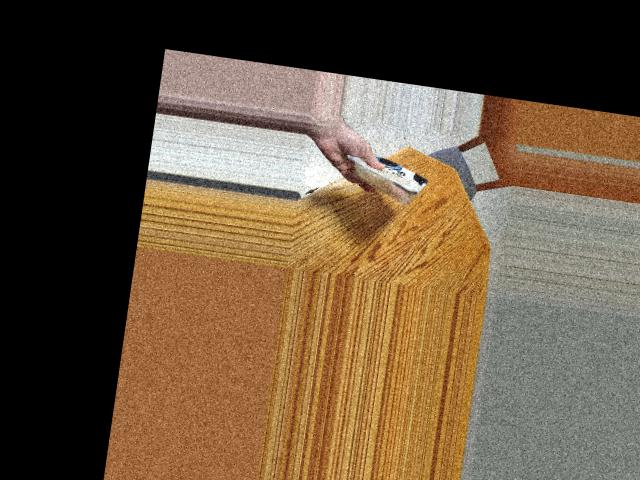cheese: (348, 139, 428, 210)
